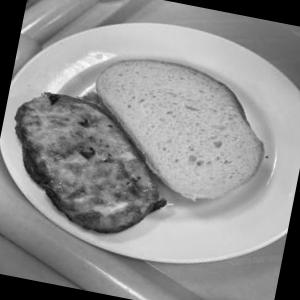bread: (62, 54, 284, 219)
cheese_sandwich: (0, 81, 177, 254)
